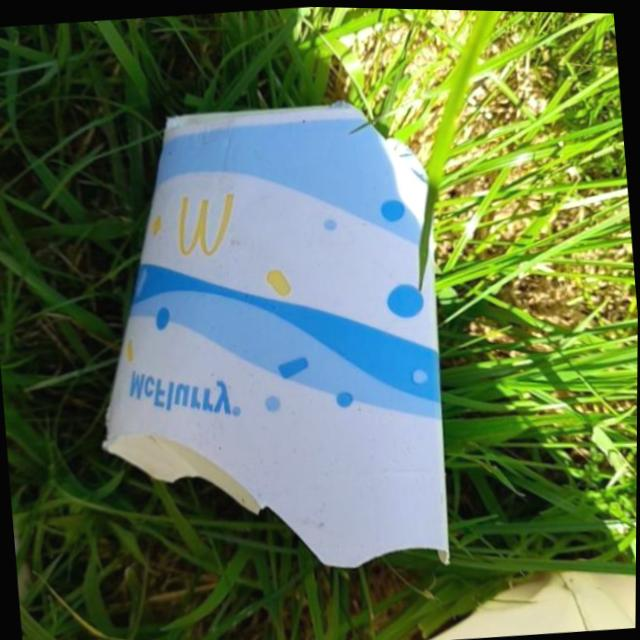Paper: (68, 79, 468, 599)
